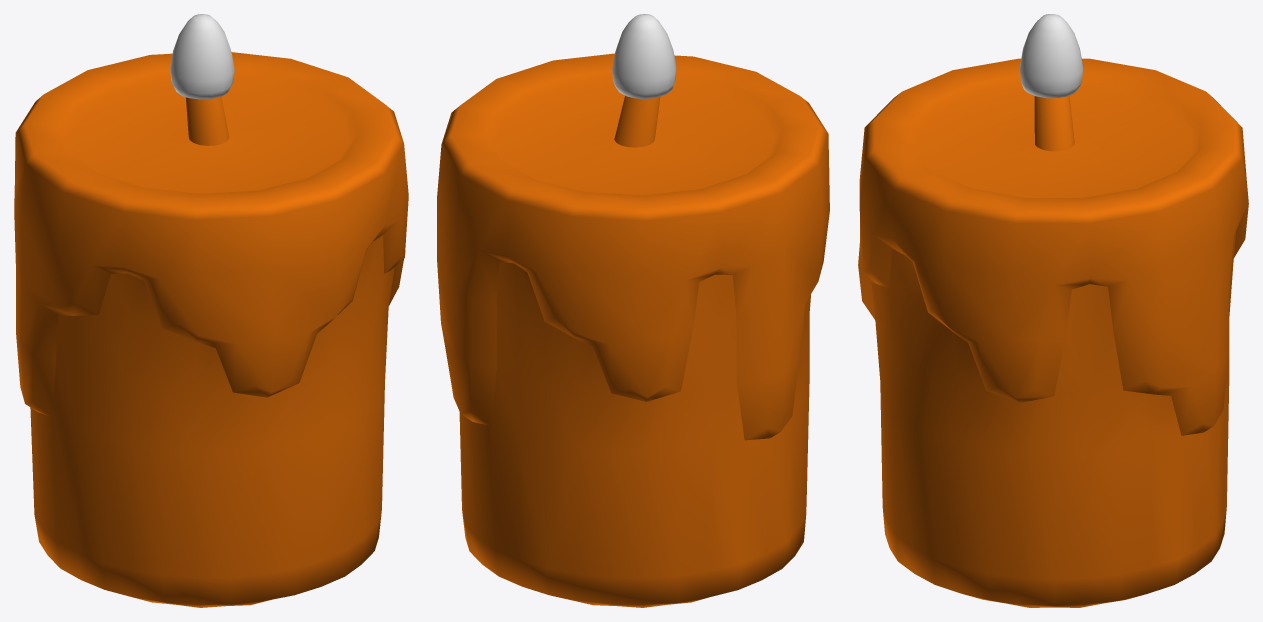
The model's file is S_Candle.fbx.
3 renders of one model, left to right at view 1: azimuth 30°, elevation 25°; view 2: azimuth 150°, elevation 25°; view 3: azimuth 270°, elevation 25°, orthographic.
Parts seen in each view (by area): view 1: Candle_LQ.001; view 2: Candle_LQ.001; view 3: Candle_LQ.001.
Part boxes in pixels (box(x1,y1,x2,y2)): Candle_LQ.001: box(14, 14, 408, 607); Candle_LQ.001: box(437, 14, 829, 607); Candle_LQ.001: box(858, 14, 1248, 607).
Bounding box in the file's own units: 16.37 × 25.19 × 16.37.
